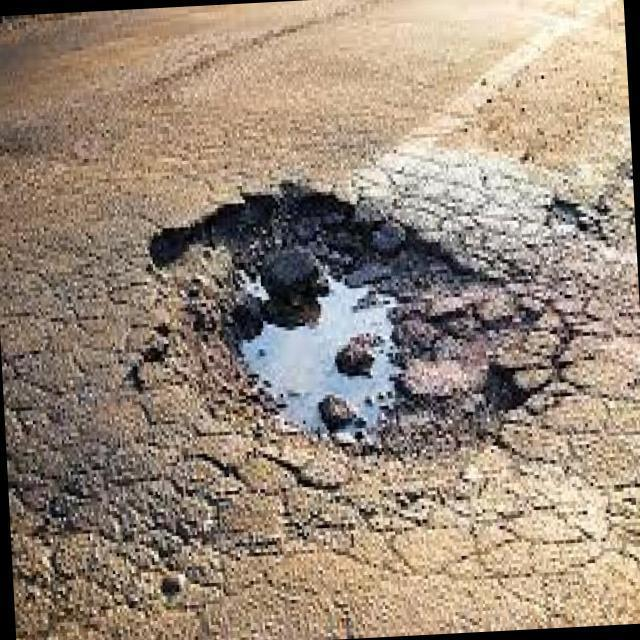Pothole: (148, 184, 533, 451)
